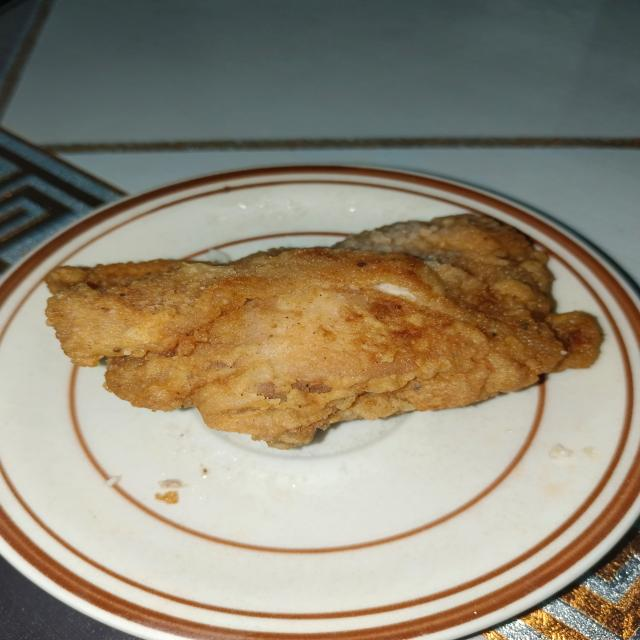Chicken -Fried Chicken-: (26, 204, 631, 470)
